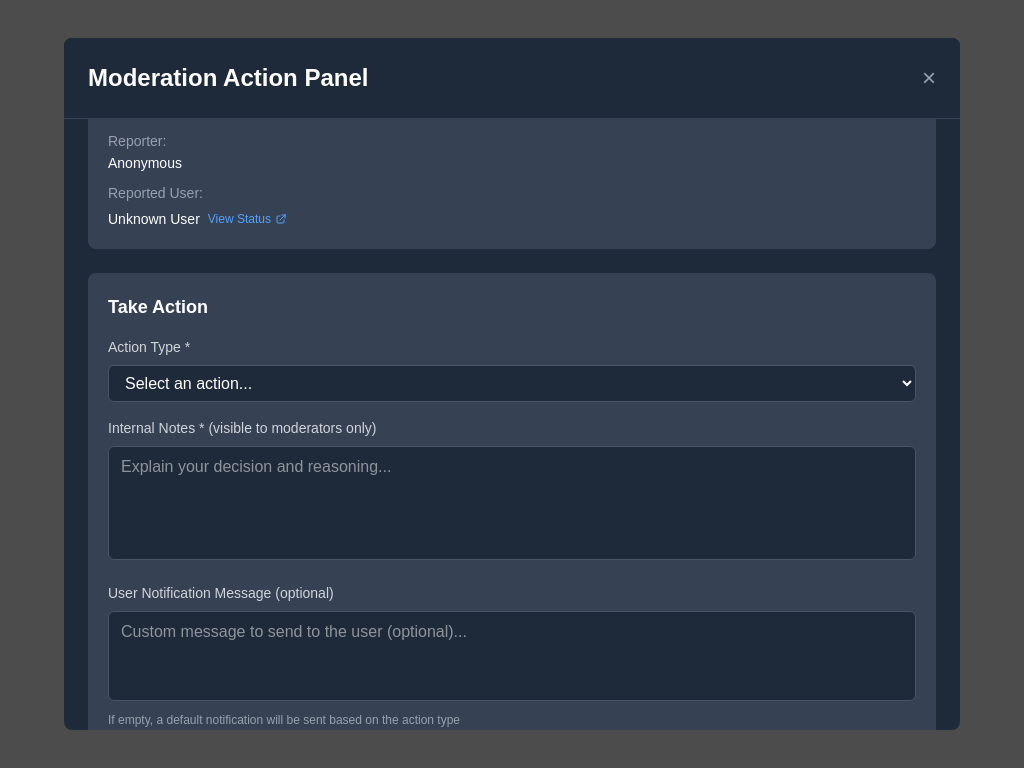
it: ModerationActionPanel › Confirmation Dialogs › should show confirmation dialog for content removal
(page scrolled)
Note: Select content removal
Select "Remove Content" in the dropdown labelled "Action Type *" at (512, 384), box x1=108 y1=365 x2=916 y2=402
(page scrolled)
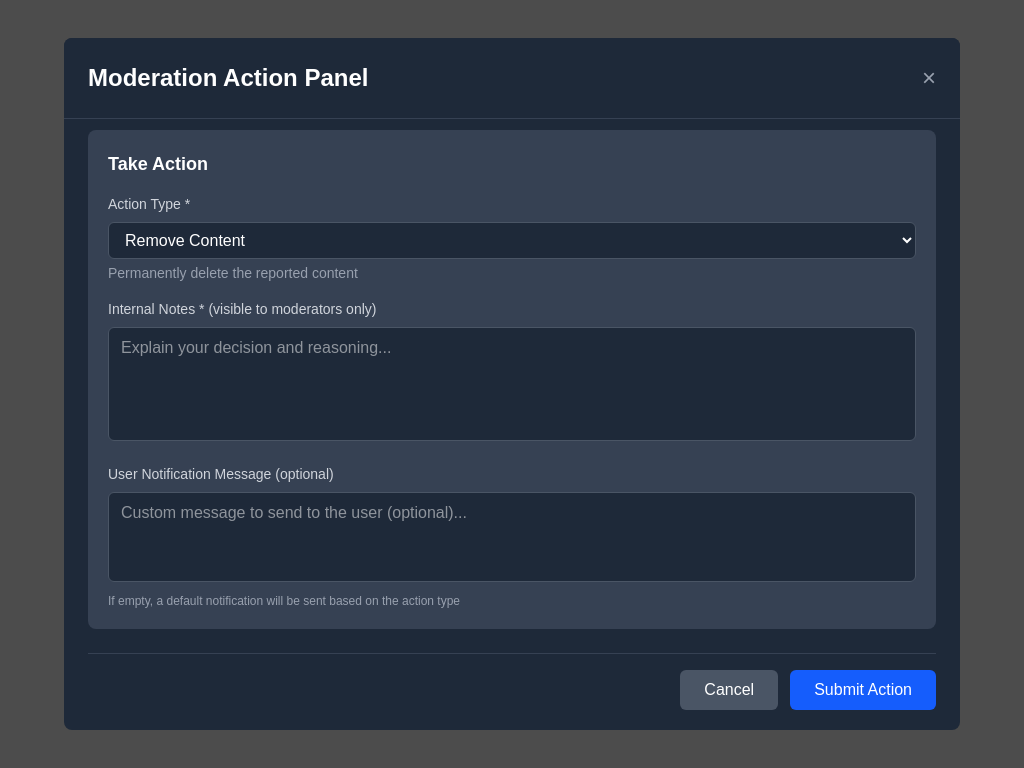
Note: Fill in internal notes
Type "Removing spam content" into the text box labelled "Internal Notes * (visible to moderators only)" at (512, 384), box x1=108 y1=327 x2=916 y2=441
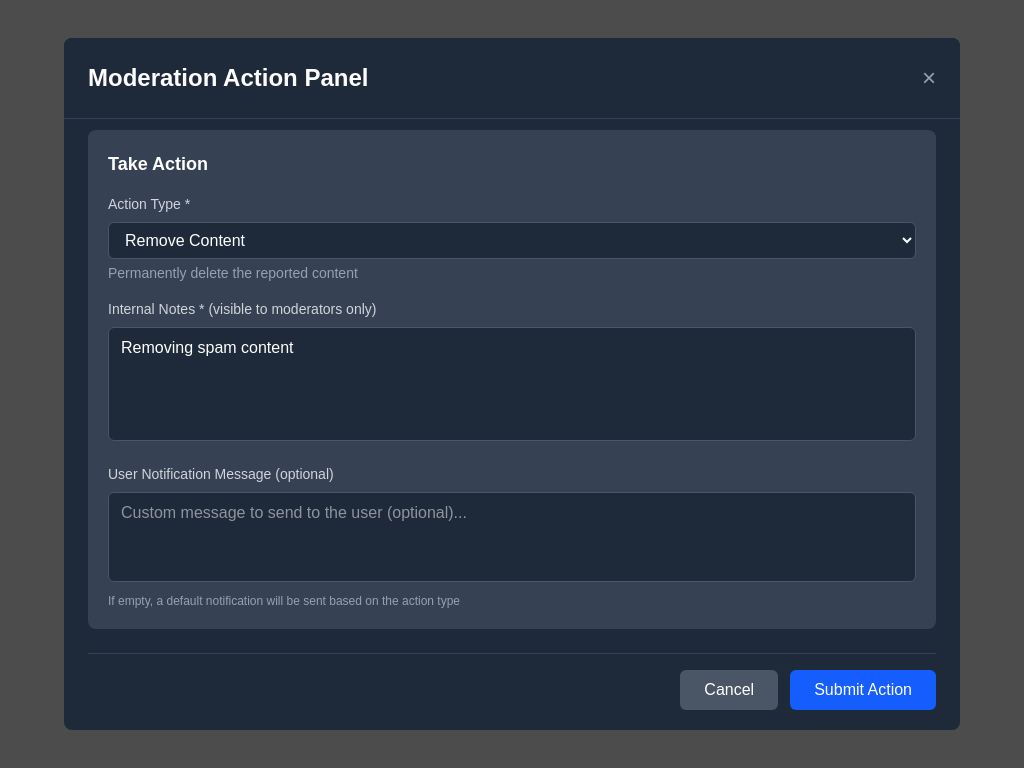
Click the button "Submit Action" at (863, 690), box x1=790 y1=670 x2=936 y2=710
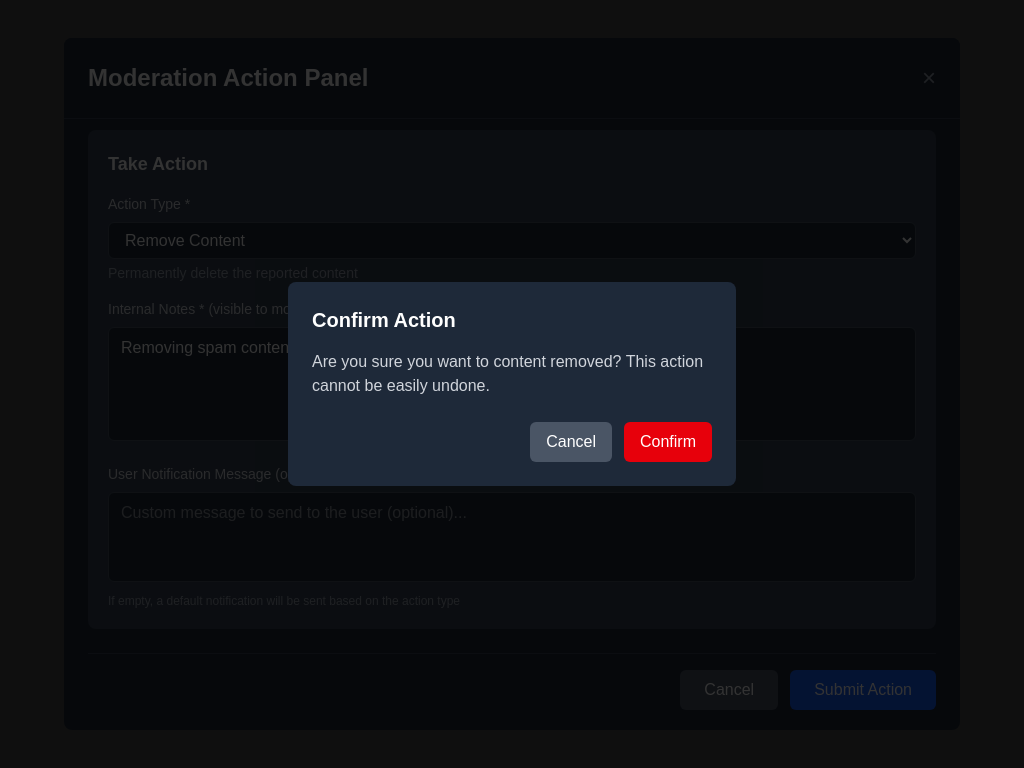
Expected: the heading "Confirm Action" is shown, x1=312 y1=309 x2=456 y2=331
Expected: the text "Are you sure you want to" is shown, x1=312 y1=353 x2=703 y2=394
